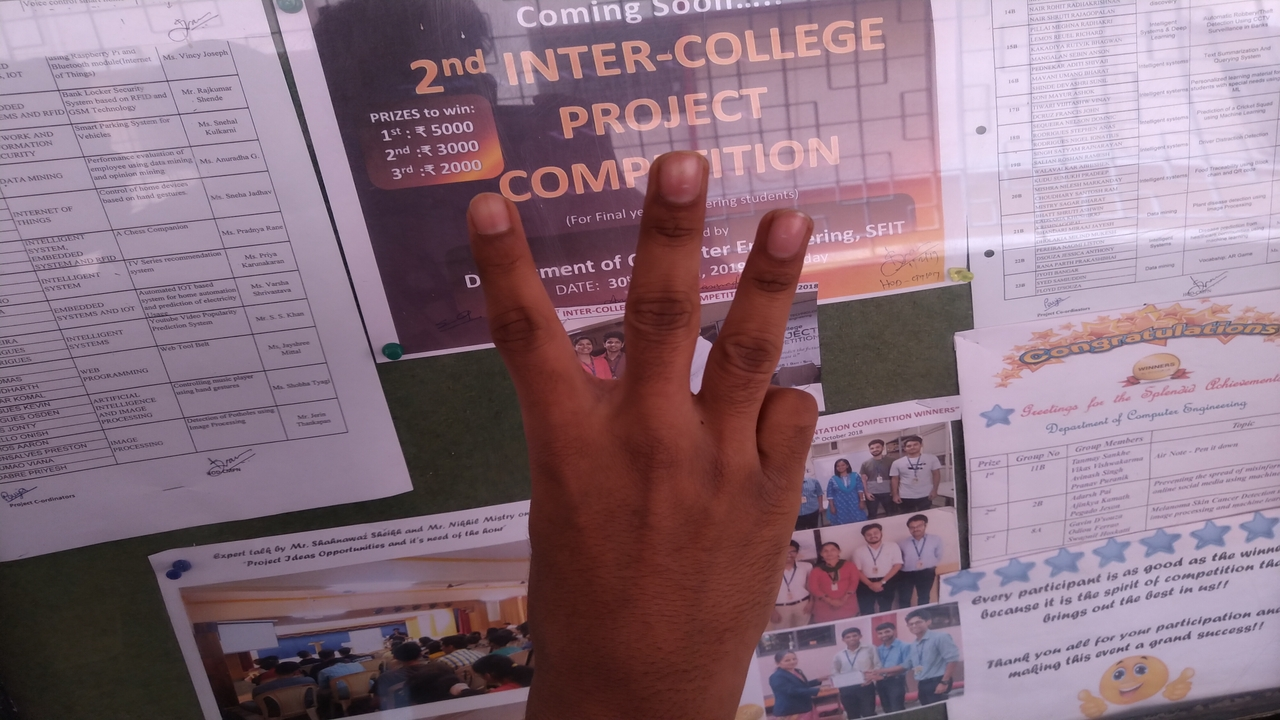fingertip: (646, 142, 714, 210), (752, 200, 820, 264), (464, 180, 522, 244)
